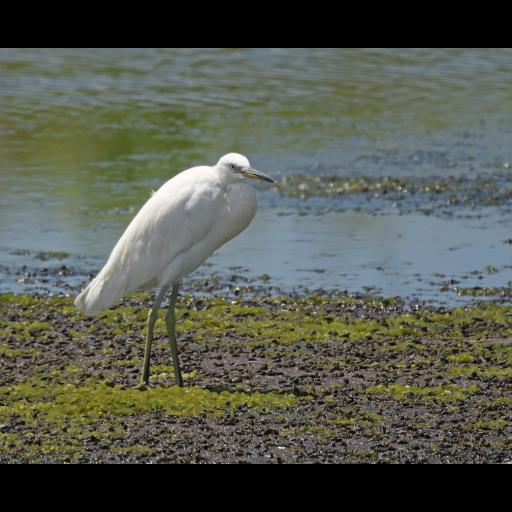chinese_egret: (74, 152, 278, 392)
